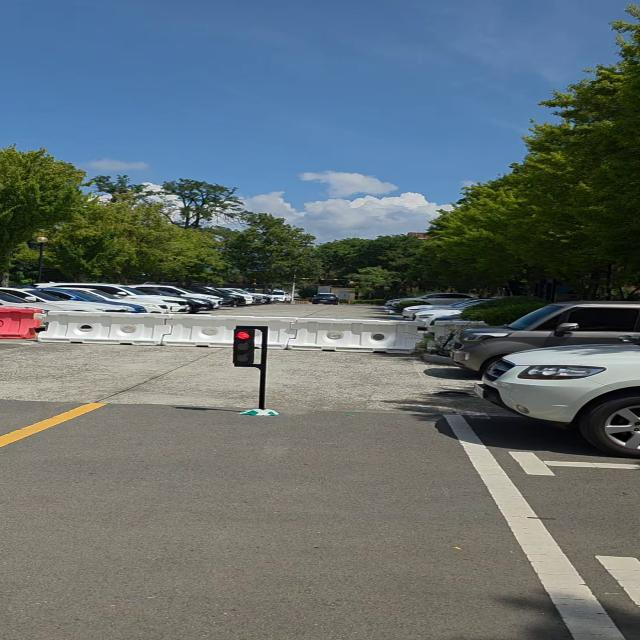red: (233, 328, 259, 364)
